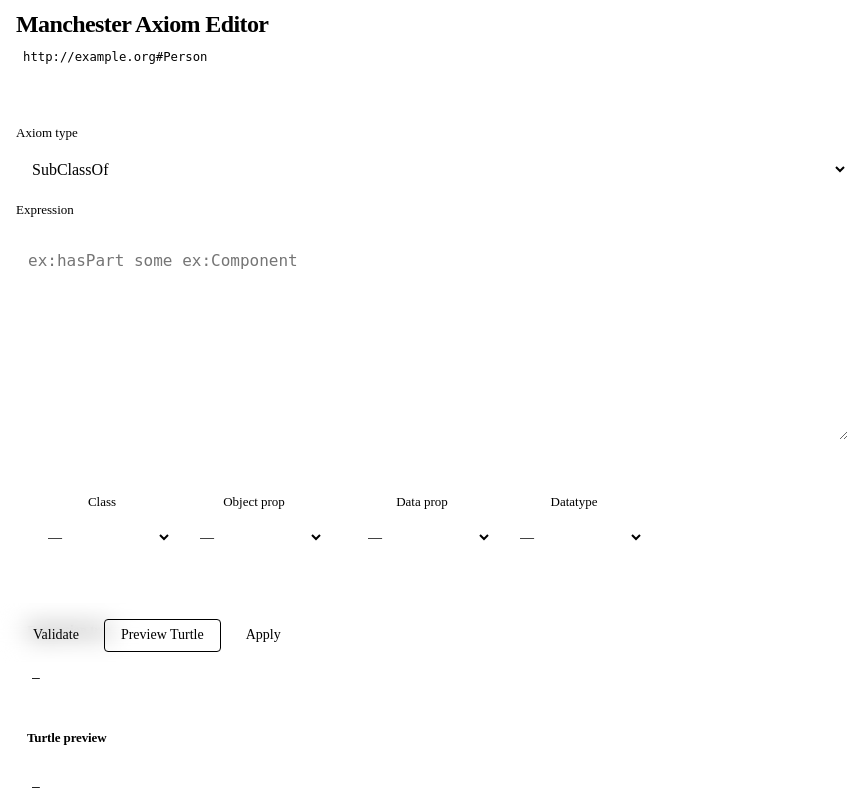
Test: ManchesterEditorPanel › inserts completion term into expression
Expected: the text "http://example.org#Person" is shown, [16,48,214,66]
Step 1. Select "ex:Person" in the dropdown labelled "Class" → (102, 538), box [32,520,172,555]
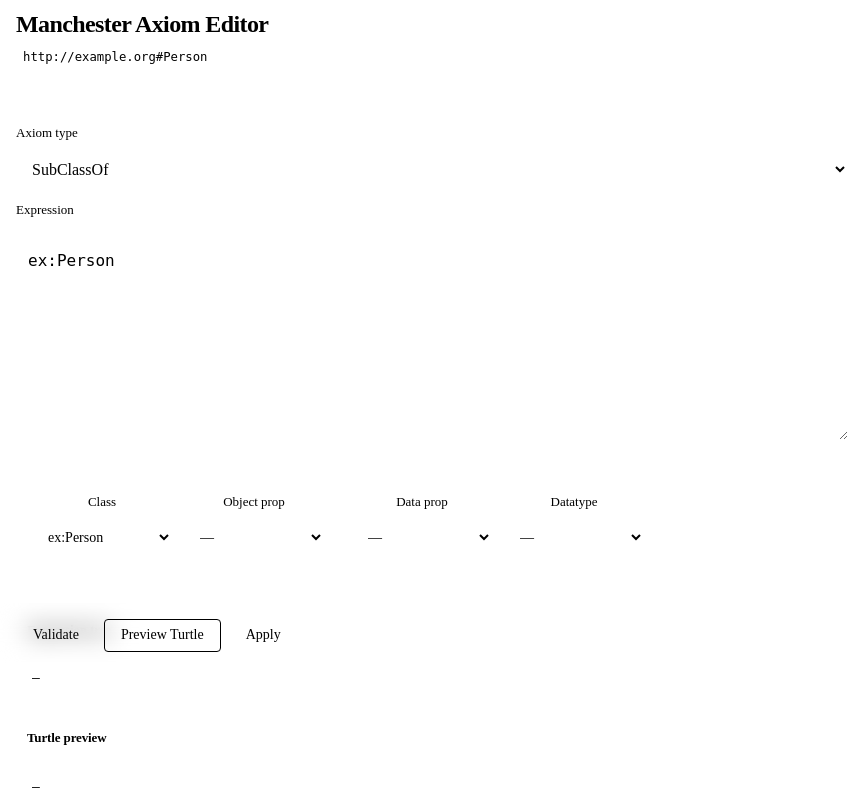
Result: the text box holds "ex:Person" at [16,240,848,440]
